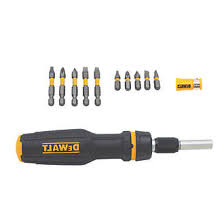screwdriver: (11, 116, 223, 177)
